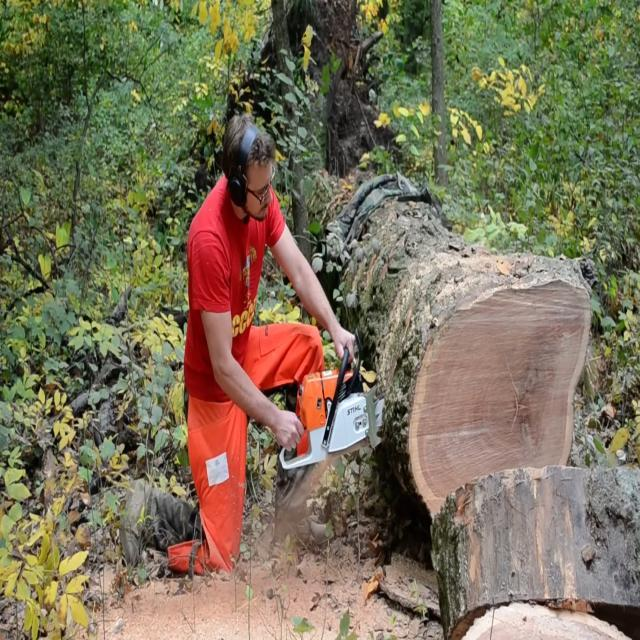Chainsaw: (258, 326, 414, 483)
